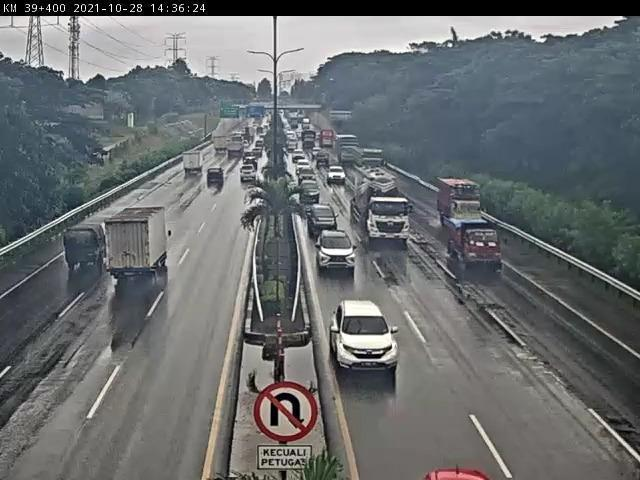car: (331, 302, 400, 373), (63, 222, 107, 272), (318, 232, 358, 272), (306, 202, 338, 237), (299, 178, 321, 204), (207, 167, 228, 188), (239, 164, 259, 184), (327, 166, 347, 184), (298, 167, 317, 184)
truck: (350, 169, 414, 246), (106, 207, 170, 277), (450, 216, 505, 274), (438, 180, 484, 227), (180, 153, 206, 178)
